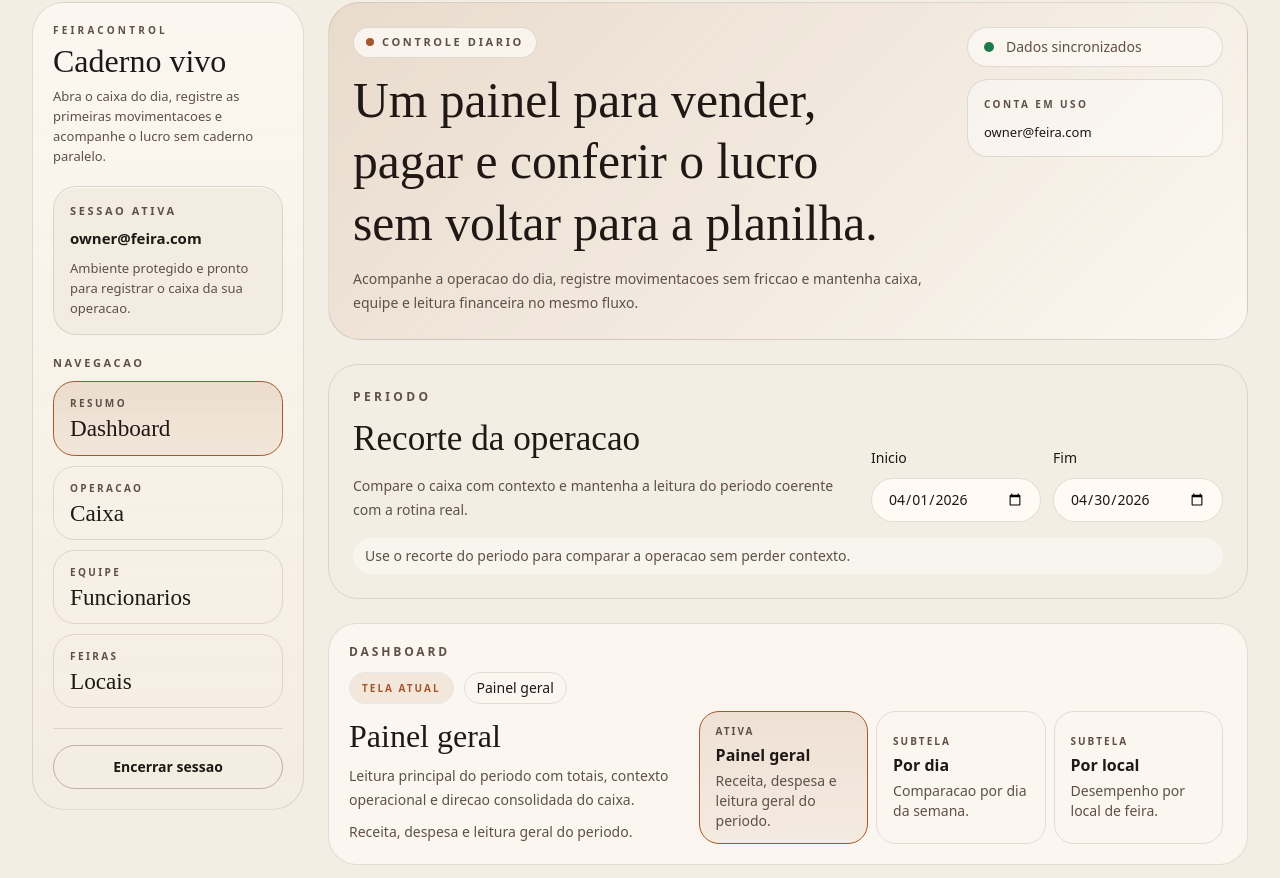
Test: App context flows › retorna ao livro caixa com feedback visivel apos registrar movimentacao
Click the button with test id "nav-cash" at (168, 503), box [53, 466, 283, 540]
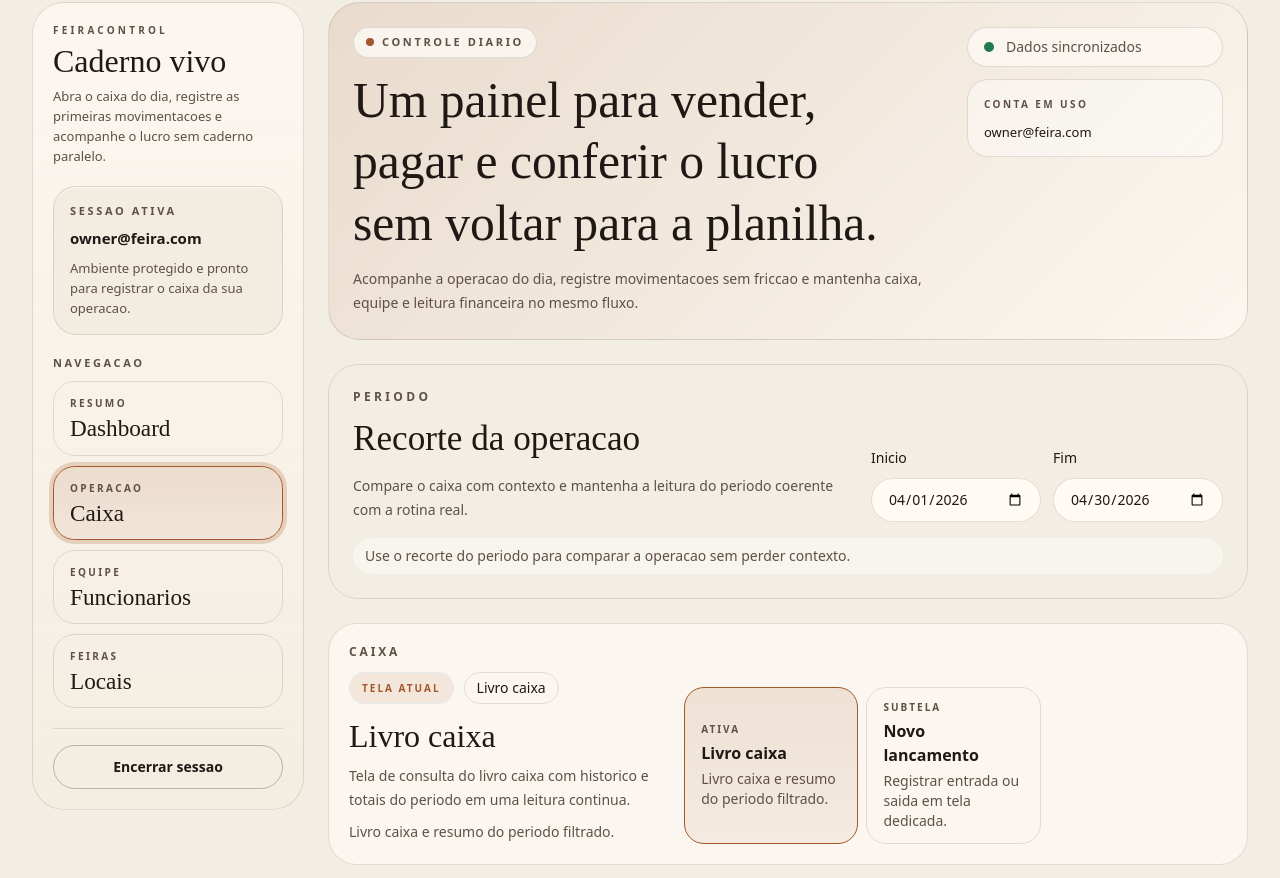
Click the tab "Novo lancamento" at (954, 766), box [866, 687, 1041, 844]
(page scrolled)
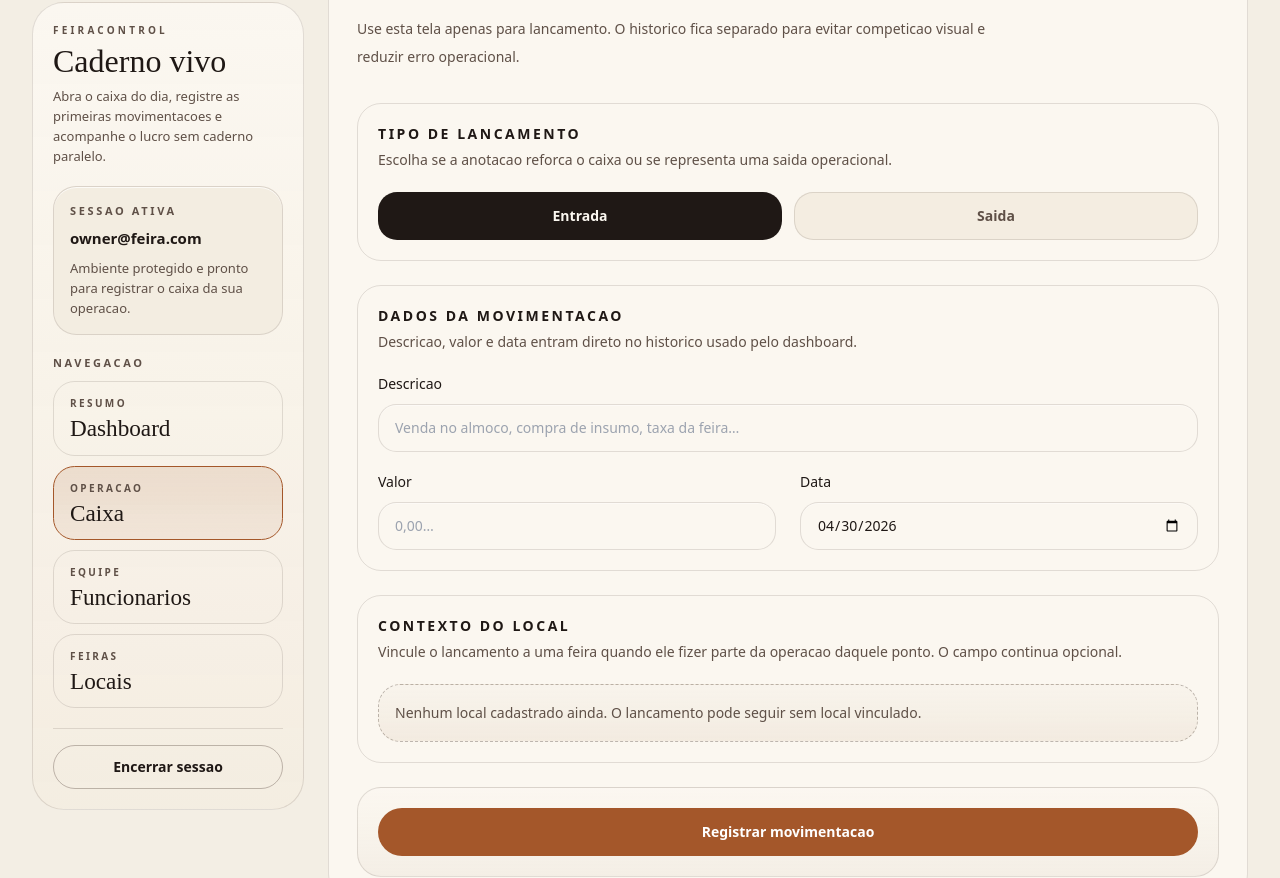
Type "Venda do almoco" into the field labelled "Descricao" at (788, 428), box [378, 404, 1198, 452]
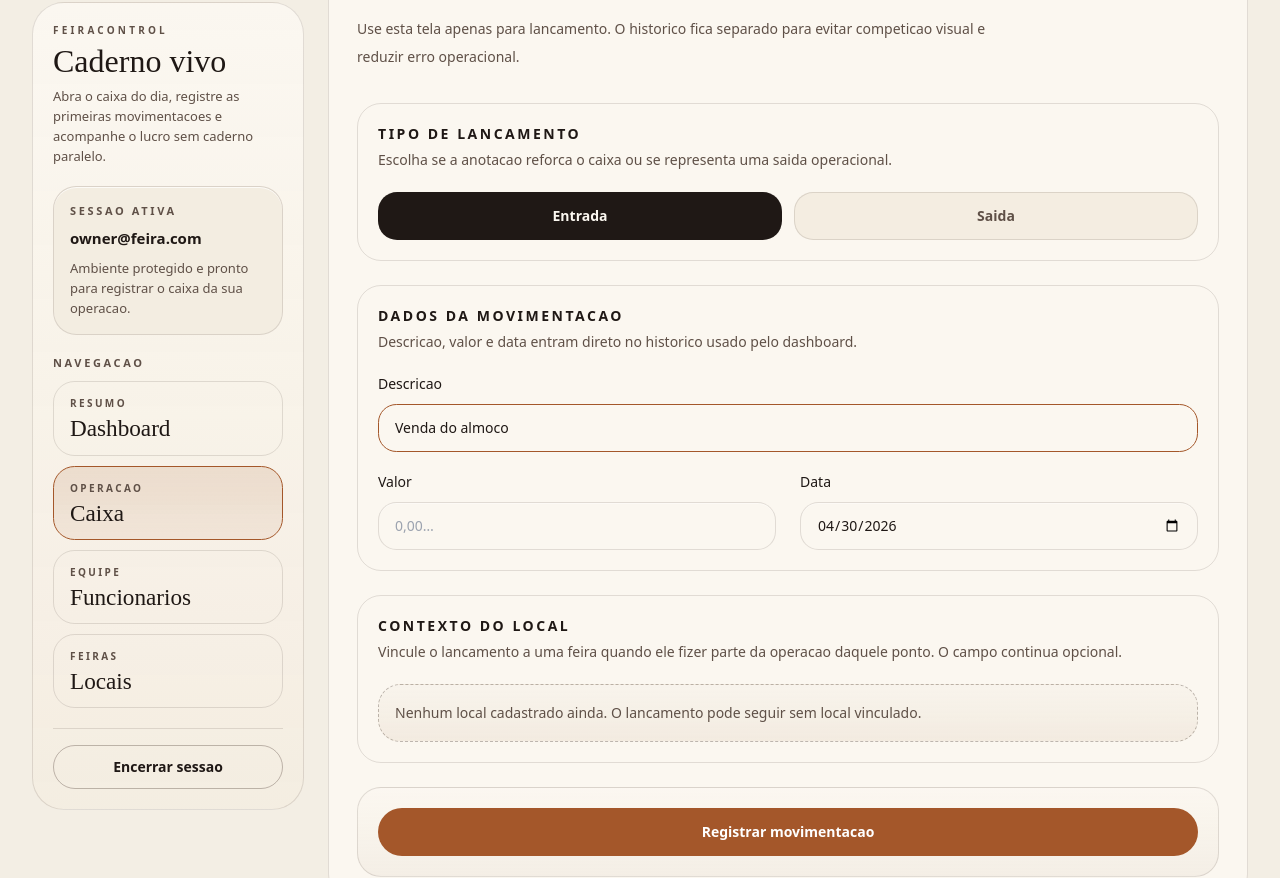
Type "12" into the number field labelled "Valor" at (577, 526), box [378, 502, 776, 550]
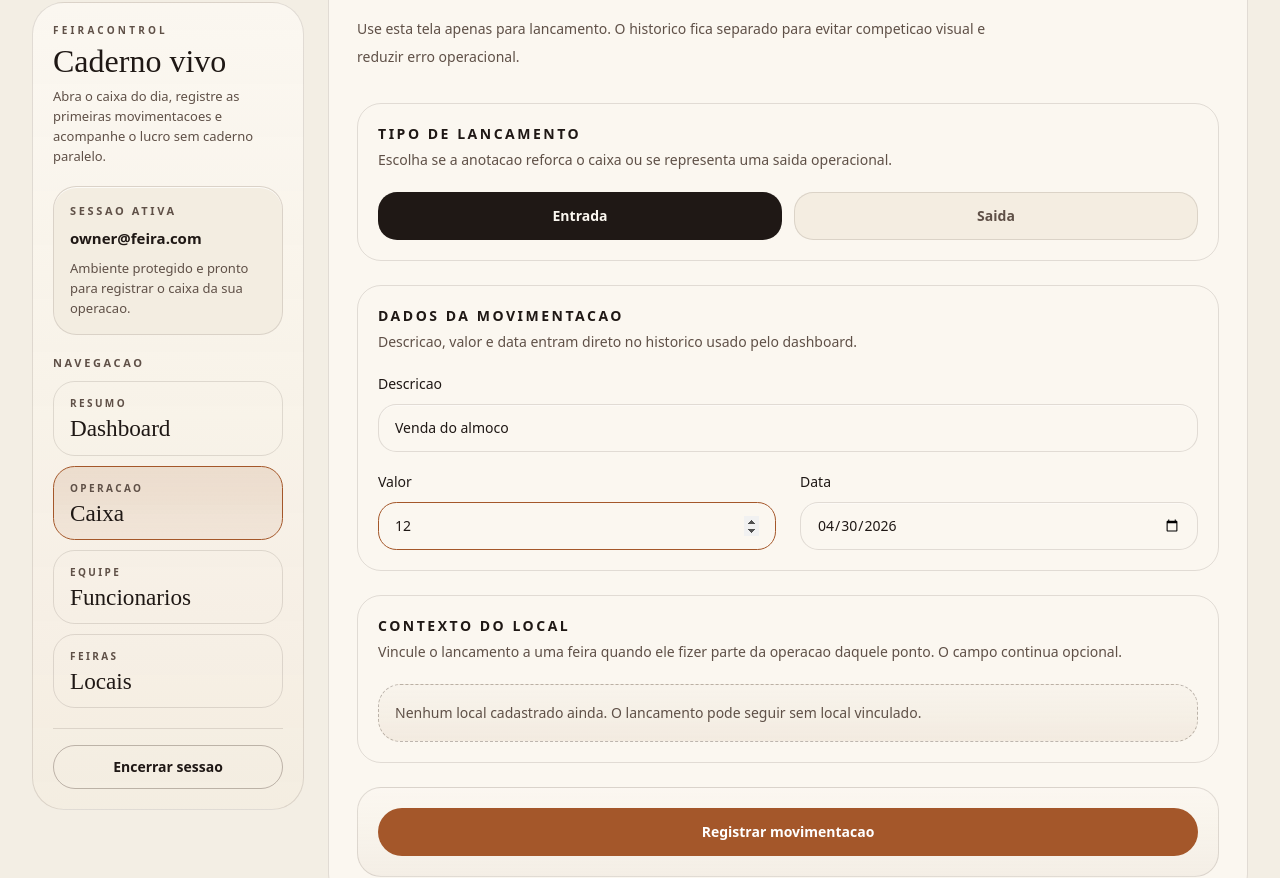
Click the button "Registrar movimentacao" at (788, 832), box [378, 808, 1198, 856]
(page scrolled)
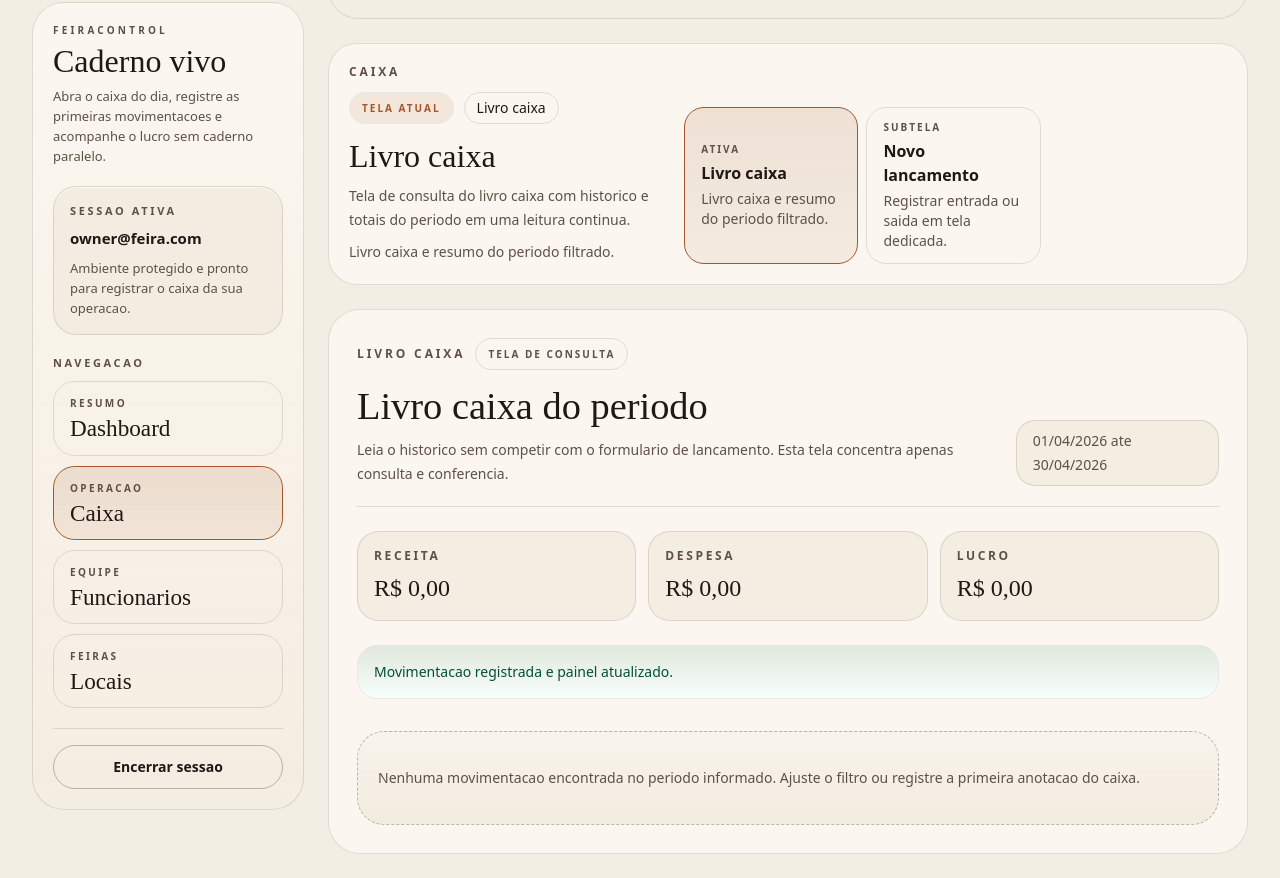
Now the text "Movimentacao registrada e painel atualizado." is shown, box [357, 645, 1219, 699]
Now the heading "Livro caixa do periodo" is shown, box [357, 385, 708, 427]
